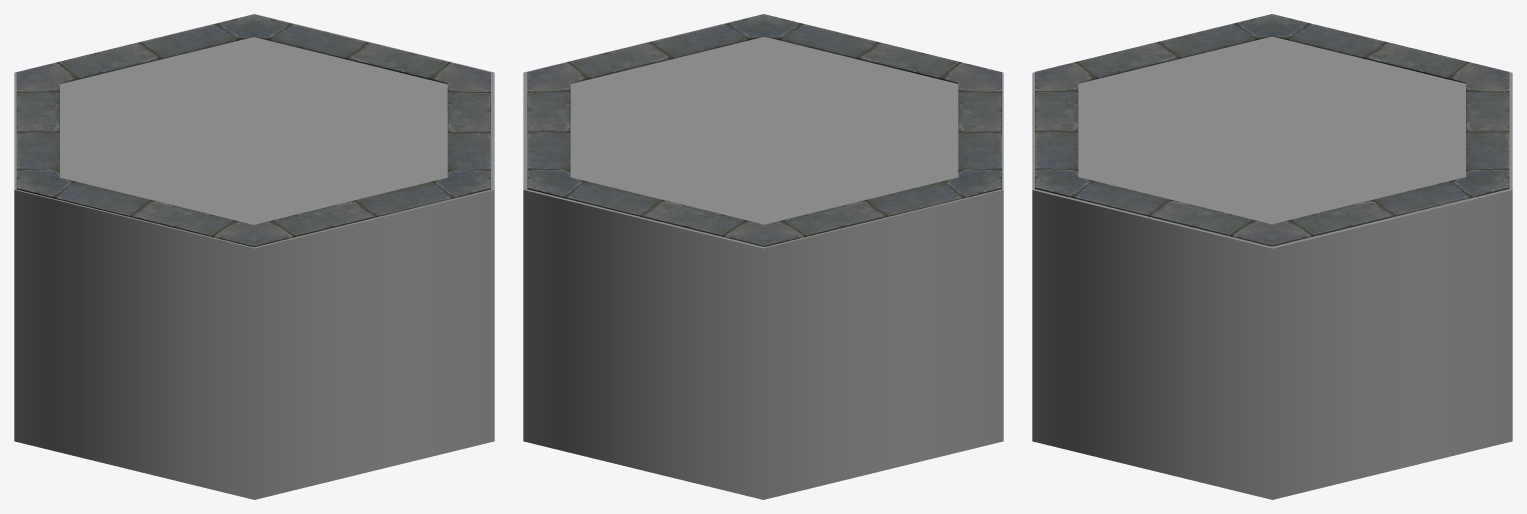
3 renders of one model, left to right at view 1: azimuth 30°, elevation 25°; view 2: azimuth 150°, elevation 25°; view 3: azimuth 270°, elevation 25°, orthographic.
Visible parts, largest first — view 1: Scene_Object_Di_9_Xzm, Scene_Object_Di_9; view 2: Scene_Object_Di_9_Xzm, Scene_Object_Di_9; view 3: Scene_Object_Di_9_Xzm, Scene_Object_Di_9.
Boxes of the visible parts, <box> form: Scene_Object_Di_9_Xzm: <box>14,14,494,499</box>; Scene_Object_Di_9: <box>16,14,490,247</box>; Scene_Object_Di_9_Xzm: <box>523,14,1003,499</box>; Scene_Object_Di_9: <box>527,14,1001,246</box>; Scene_Object_Di_9_Xzm: <box>1032,36,1512,499</box>; Scene_Object_Di_9: <box>1035,14,1509,246</box>.
Size of the model in its own units: 423 by 213 by 367.
